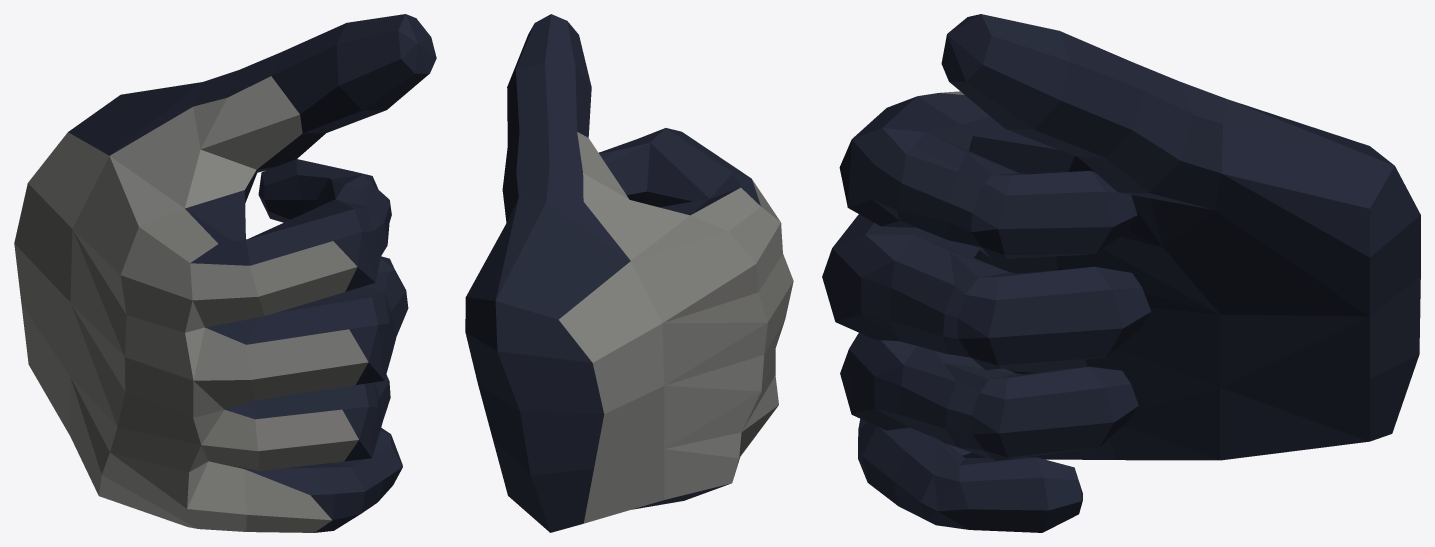
File: Hand_Closed_Bat.fbx
The picture shows the model from 3 angles, left to right: view 1: azimuth 30°, elevation 25°; view 2: azimuth 150°, elevation 25°; view 3: azimuth 270°, elevation 25°; orthographic projection. The views are drawn at different scales.
Visible parts, largest first — view 1: Bat; view 2: Bat; view 3: Bat.
Boxes of the visible parts, x1,y1,x2,y2 form: Bat: (14, 14, 436, 532); Bat: (465, 14, 793, 532); Bat: (822, 14, 1420, 532).
Size of the model in its own units: 150 by 235 by 224.
